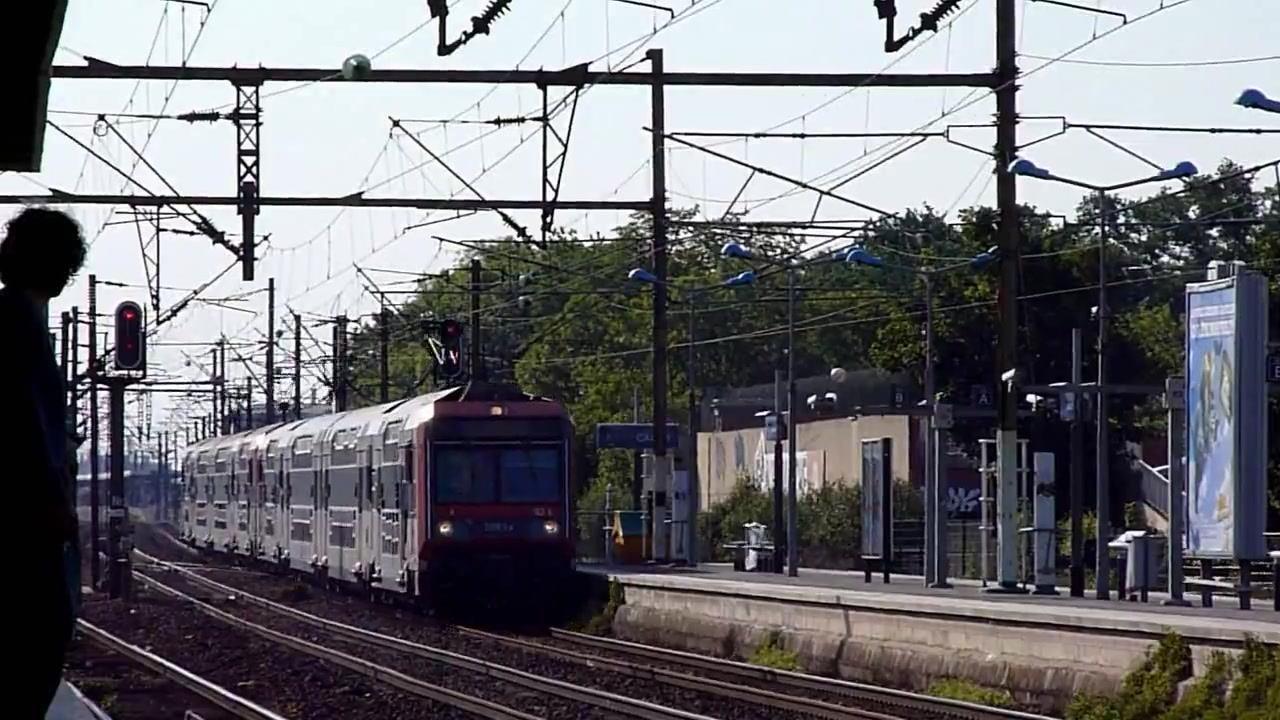train: (175, 383, 583, 607)
